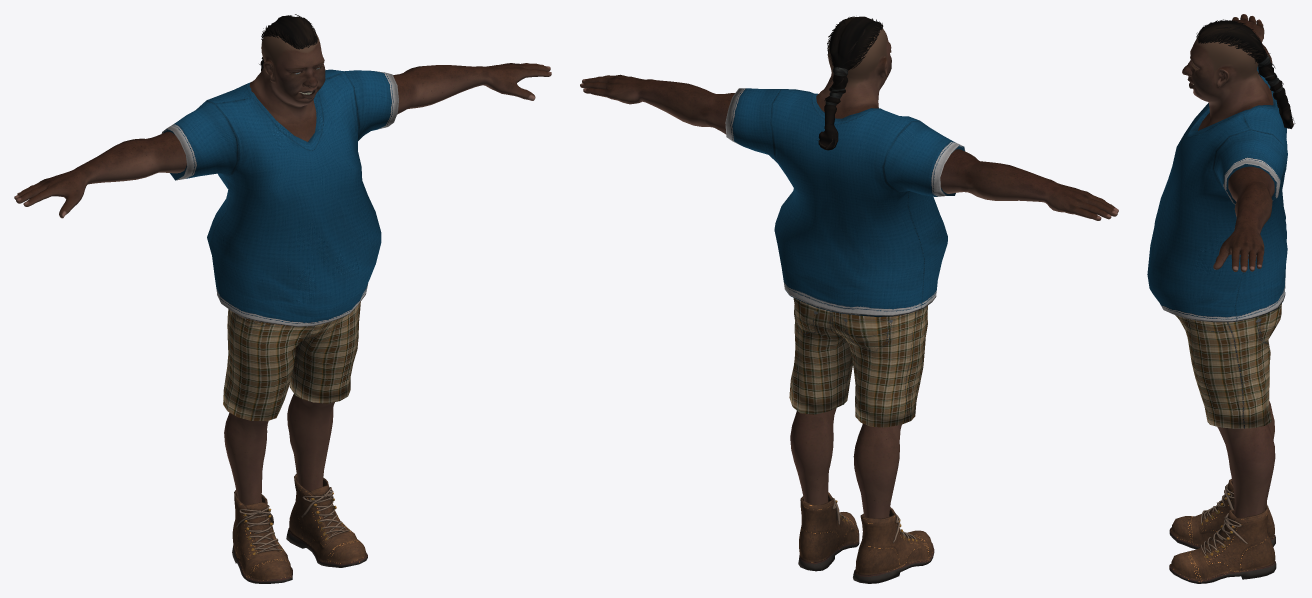
File: Pep.obj
3 renders of one model, left to right at view 1: azimuth 30°, elevation 25°; view 2: azimuth 150°, elevation 25°; view 3: azimuth 270°, elevation 25°, orthographic.
Visible parts, largest first — view 1: Tops, Body, Bottoms, Shoes, Hair; view 2: Tops, Body, Bottoms, Shoes, Hair; view 3: Tops, Body, Bottoms, Shoes, Hair.
Boxes of the visible parts, bbox=[...] form: Tops: bbox=[161, 69, 398, 326]; Body: bbox=[14, 29, 551, 505]; Bottoms: bbox=[223, 302, 360, 421]; Shoes: bbox=[232, 474, 367, 583]; Hair: bbox=[259, 14, 317, 71]; Tops: bbox=[725, 88, 965, 316]; Body: bbox=[580, 29, 1118, 518]; Bottoms: bbox=[789, 298, 927, 427]; Shoes: bbox=[798, 492, 934, 583]; Hair: bbox=[817, 16, 883, 150]; Tops: bbox=[1147, 66, 1287, 322]; Body: bbox=[1182, 14, 1275, 518]; Bottoms: bbox=[1175, 303, 1281, 428]; Shoes: bbox=[1169, 479, 1276, 583]; Hair: bbox=[1196, 19, 1295, 128].
Bounding box in the file's own units: 185 × 178 × 45.39.
5 materials, 5 textured.
